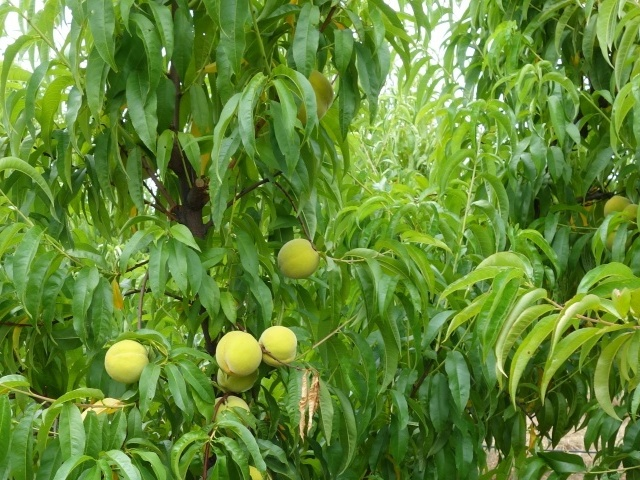peach: (295, 62, 344, 130), (209, 326, 265, 379), (101, 338, 155, 385), (272, 237, 321, 284), (253, 324, 302, 371), (210, 393, 257, 429), (602, 191, 632, 222)
